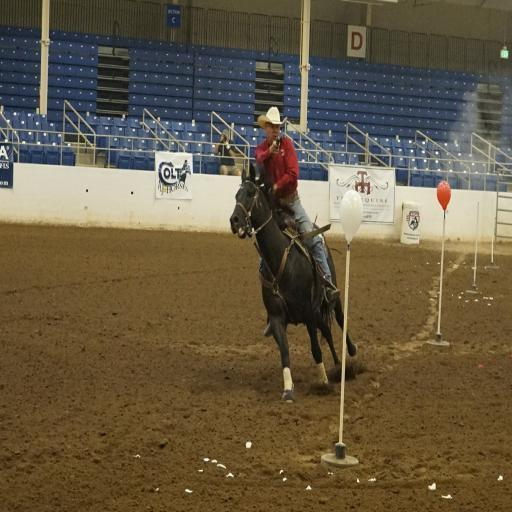horse: (229, 160, 356, 404)
